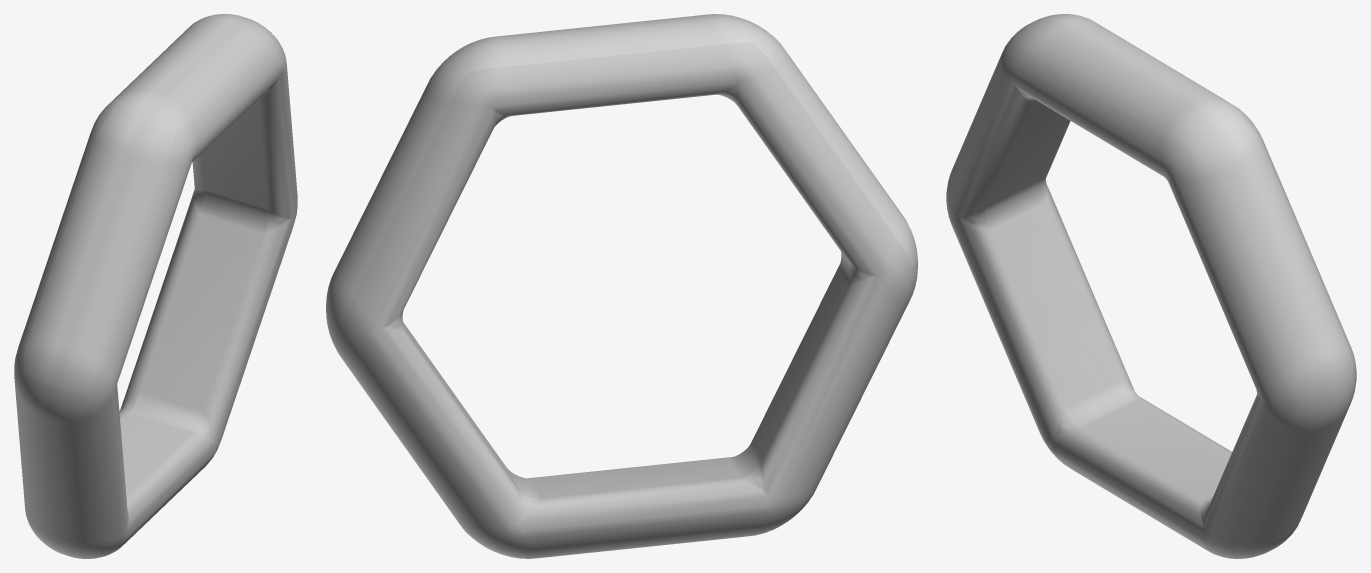
Rendered from NuovoSitoEsagonoMenuMainContatti.gltf.
3 views of the same model, side by side, from view 1: azimuth 30°, elevation 25°; view 2: azimuth 150°, elevation 25°; view 3: azimuth 270°, elevation 25° (orthographic). The views are drawn at different scales.
Parts seen in each view (by area): view 1: Easgono Menu Main 02 - Clienti; view 2: Easgono Menu Main 02 - Clienti; view 3: Easgono Menu Main 02 - Clienti.
Boxes of the visible parts, <box> form: Easgono Menu Main 02 - Clienti: <box>14,14,297,558</box>; Easgono Menu Main 02 - Clienti: <box>326,14,917,558</box>; Easgono Menu Main 02 - Clienti: <box>946,14,1356,558</box>.
Bounding box in the file's own units: 1.27 × 1.4 × 1.08.
1 material, 1 textured.
